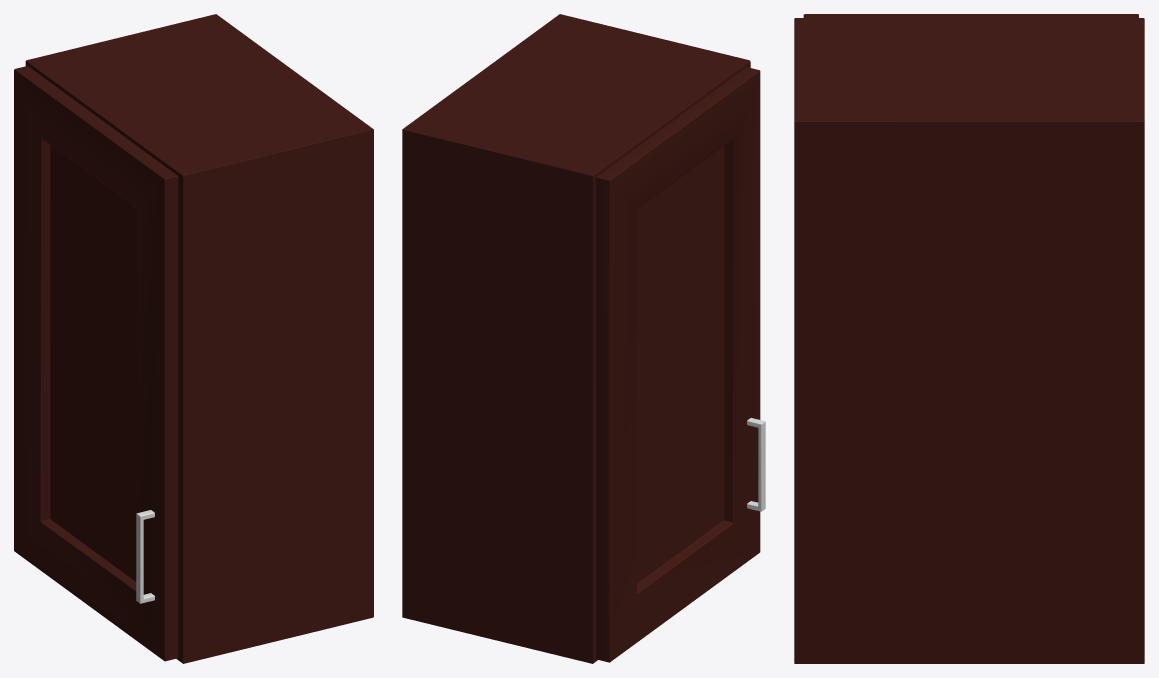
The model's file is cabinet2.fbx.
3 views of the same model, side by side, from view 1: azimuth 30°, elevation 25°; view 2: azimuth 150°, elevation 25°; view 3: azimuth 270°, elevation 25° (orthographic). The views are drawn at different scales.
Visible parts, largest first — view 1: Cabinet_Wall_DD_03, Door_R.005, Pull.014; view 2: Cabinet_Wall_DD_03, Door_R.005, Pull.014; view 3: Cabinet_Wall_DD_03, Door_R.005.
Boxes of the visible parts, x1,y1,x2,y2 form: Cabinet_Wall_DD_03: [25, 14, 373, 663]; Door_R.005: [14, 66, 178, 661]; Pull.014: [136, 510, 154, 603]; Cabinet_Wall_DD_03: [402, 14, 750, 663]; Door_R.005: [596, 67, 760, 662]; Pull.014: [747, 418, 765, 511]; Cabinet_Wall_DD_03: [794, 18, 1144, 663]; Door_R.005: [803, 14, 1138, 17].
Bounding box in the file's own units: 55.61 × 118 × 69.02.
